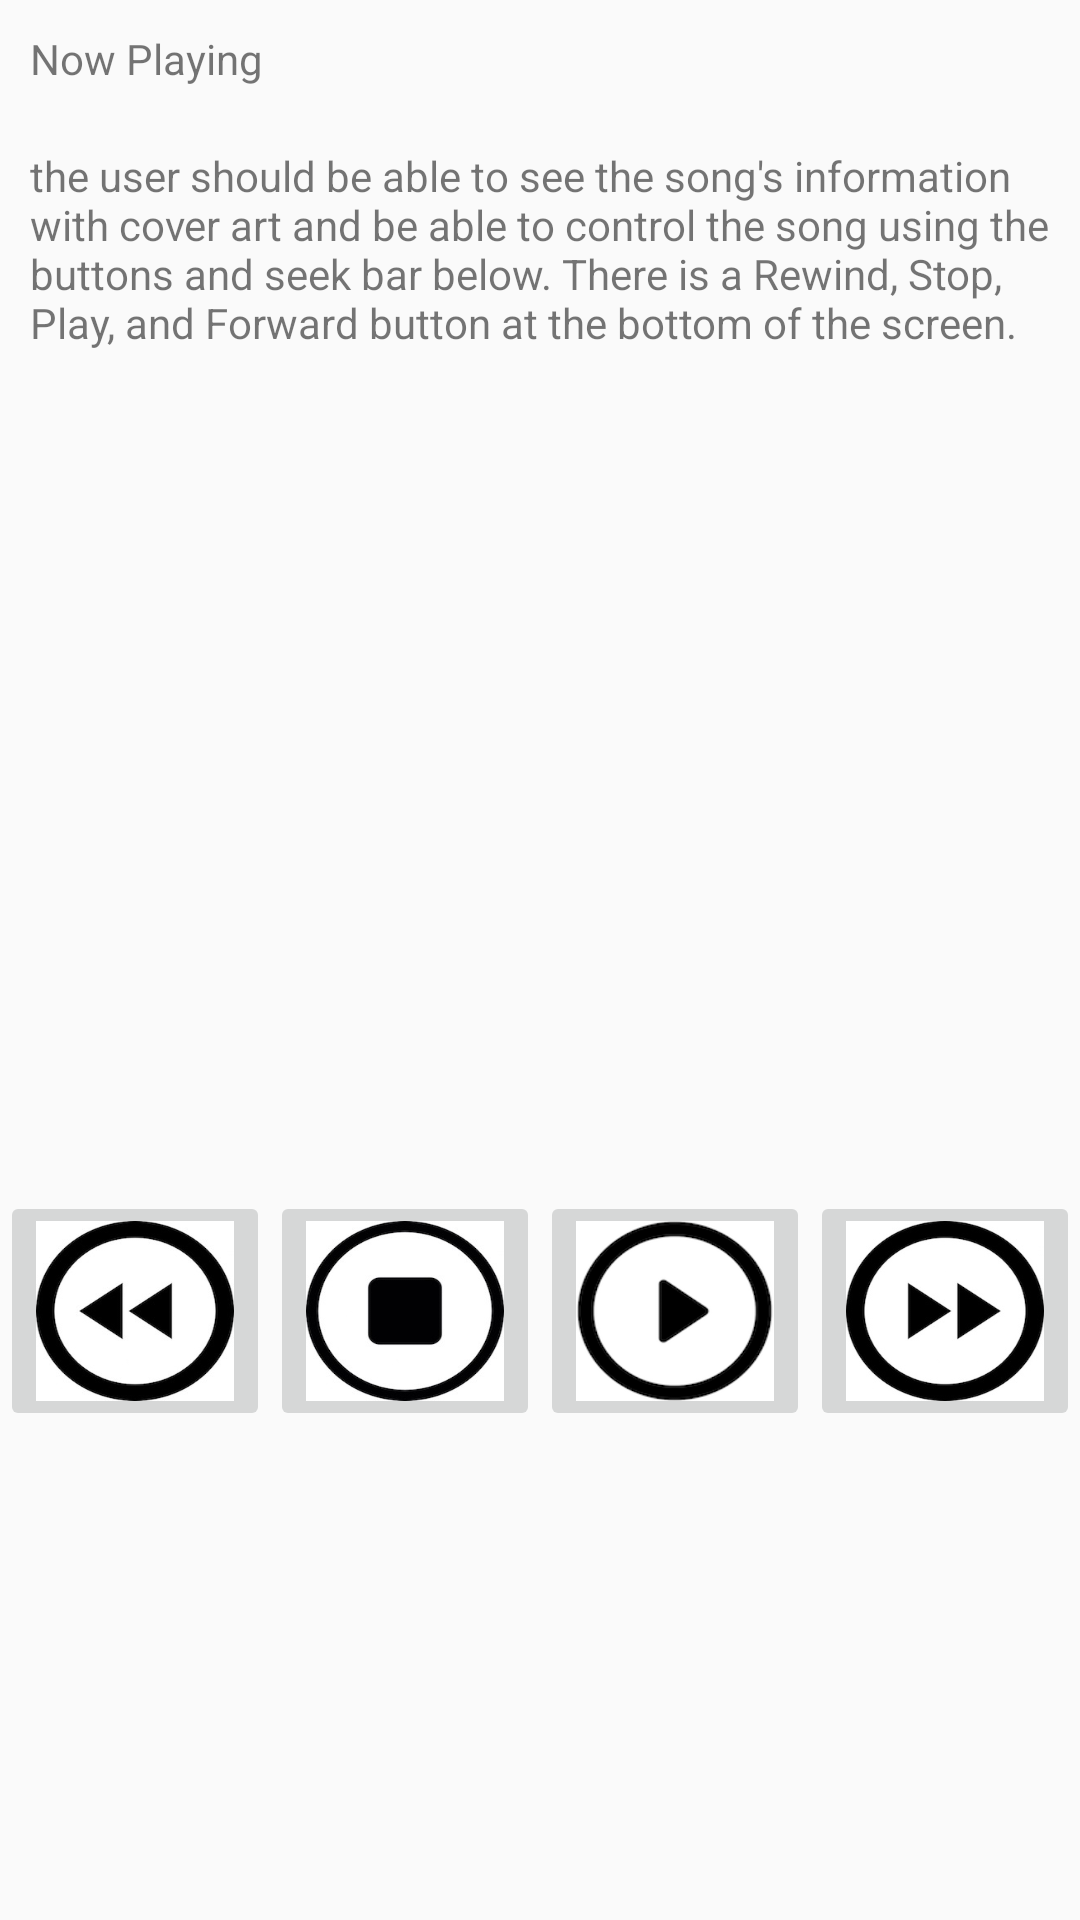

Locate icon controls on the screen. Image size 1080w x 1920h, boxes as (x1, y1, x2, y2).
fast forward: (822, 1209, 1068, 1413)
play: (552, 1209, 798, 1413)
rewind: (12, 1209, 258, 1413)
stop: (282, 1209, 528, 1413)
